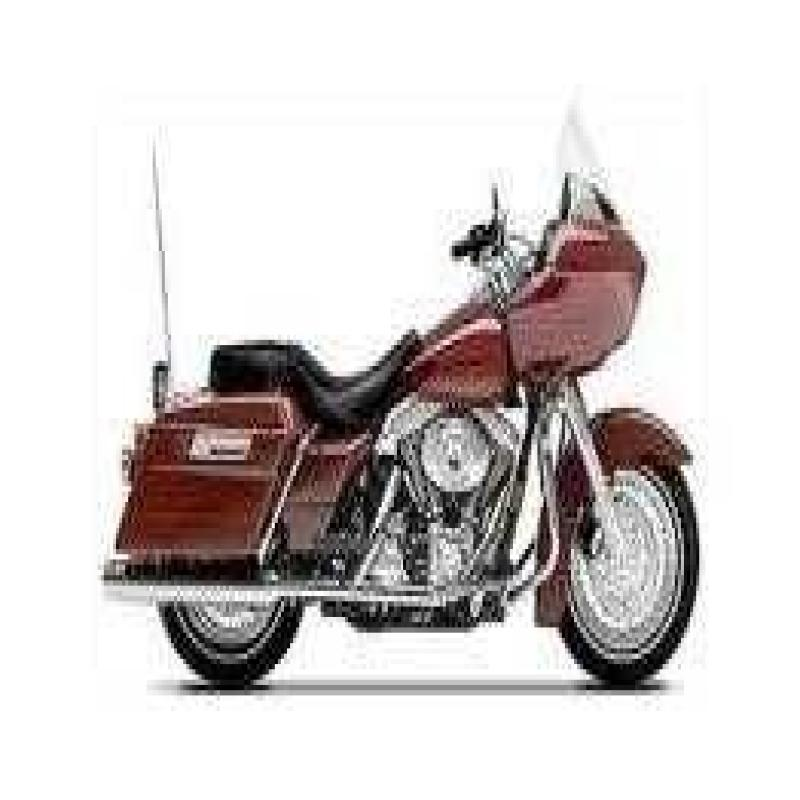bike: (106, 127, 736, 713)
